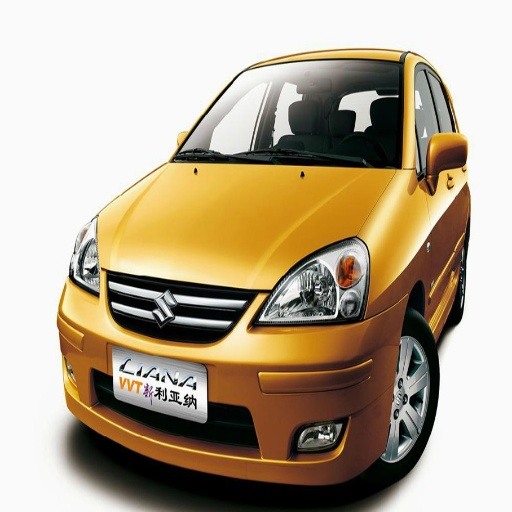front_bumper: (66, 268, 404, 484)
front_glass: (173, 60, 402, 167)
front_left_door: (412, 60, 447, 277)
front_left_light: (251, 237, 372, 328)
front_right_light: (70, 222, 102, 295)
